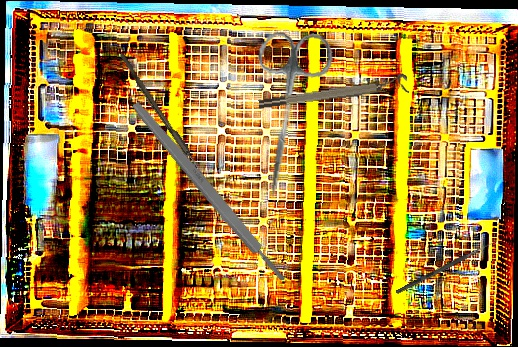Fixation Ring: (257, 72, 409, 112)
Hook Surgical: (395, 237, 498, 296)
Iris Scissors: (238, 26, 336, 203)
Scalpel Handle: (129, 99, 289, 285)
Surgical Spoon: (116, 52, 217, 192)
